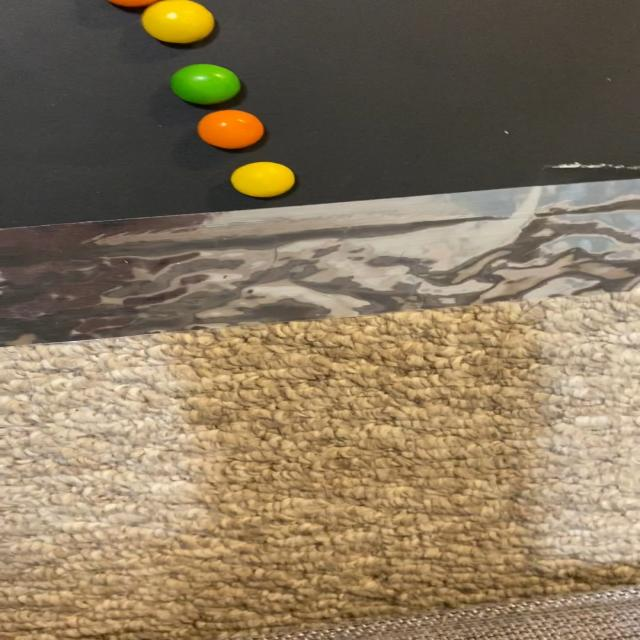smartie: (140, 0, 213, 42), (169, 64, 239, 104), (197, 110, 263, 148), (229, 161, 294, 197)
